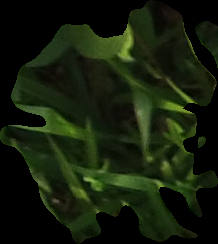grass: (1, 1, 217, 243)
